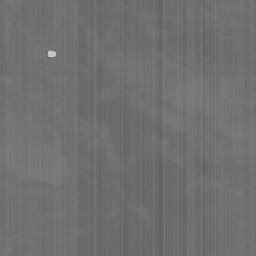Target: (45, 49, 58, 58)
